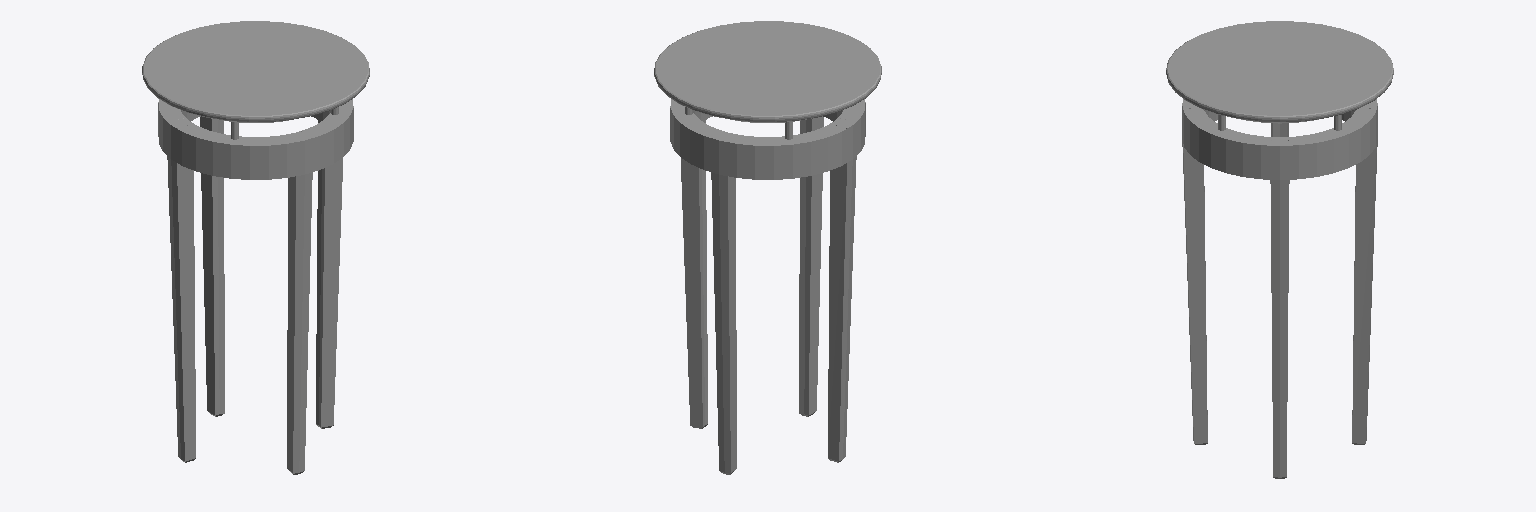
Rendered from Round_Stand.obj.
3 views of the same model, side by side, from view 1: azimuth 30°, elevation 25°; view 2: azimuth 150°, elevation 25°; view 3: azimuth 270°, elevation 25° (orthographic).
Visible parts, largest first — view 1: Round_Stand_Circle; view 2: Round_Stand_Circle; view 3: Round_Stand_Circle.
Part boxes in pixels (x1,y1,x2,y2): Round_Stand_Circle: (142,21,369,474); Round_Stand_Circle: (654,21,881,474); Round_Stand_Circle: (1166,21,1393,478).
Size of the model in its own units: 40.64 by 73.64 by 40.64.